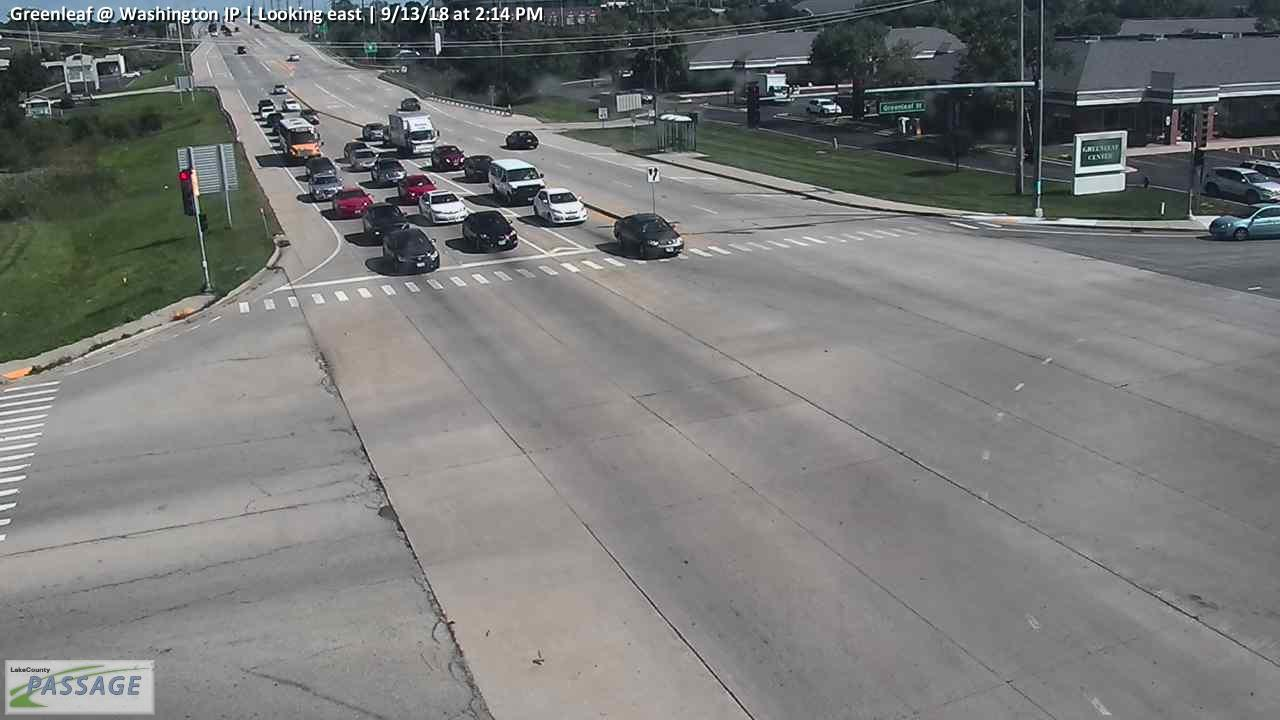Bus: (489, 160, 545, 207), (278, 116, 322, 161)
SUV: (1201, 164, 1279, 202)
Sedan: (613, 213, 685, 260), (381, 226, 440, 274), (1208, 203, 1280, 240), (461, 209, 519, 250), (533, 188, 589, 226), (419, 188, 467, 222), (363, 203, 408, 236), (335, 187, 372, 217), (309, 171, 342, 200), (398, 176, 435, 201), (370, 157, 404, 184), (431, 145, 464, 169), (463, 154, 492, 180), (303, 157, 336, 179), (506, 130, 538, 149), (349, 148, 376, 170), (807, 98, 841, 114), (342, 141, 366, 158), (362, 122, 384, 138), (303, 110, 320, 124), (283, 98, 300, 111), (261, 105, 275, 118), (274, 84, 287, 93)
Truck: (389, 111, 440, 157)
